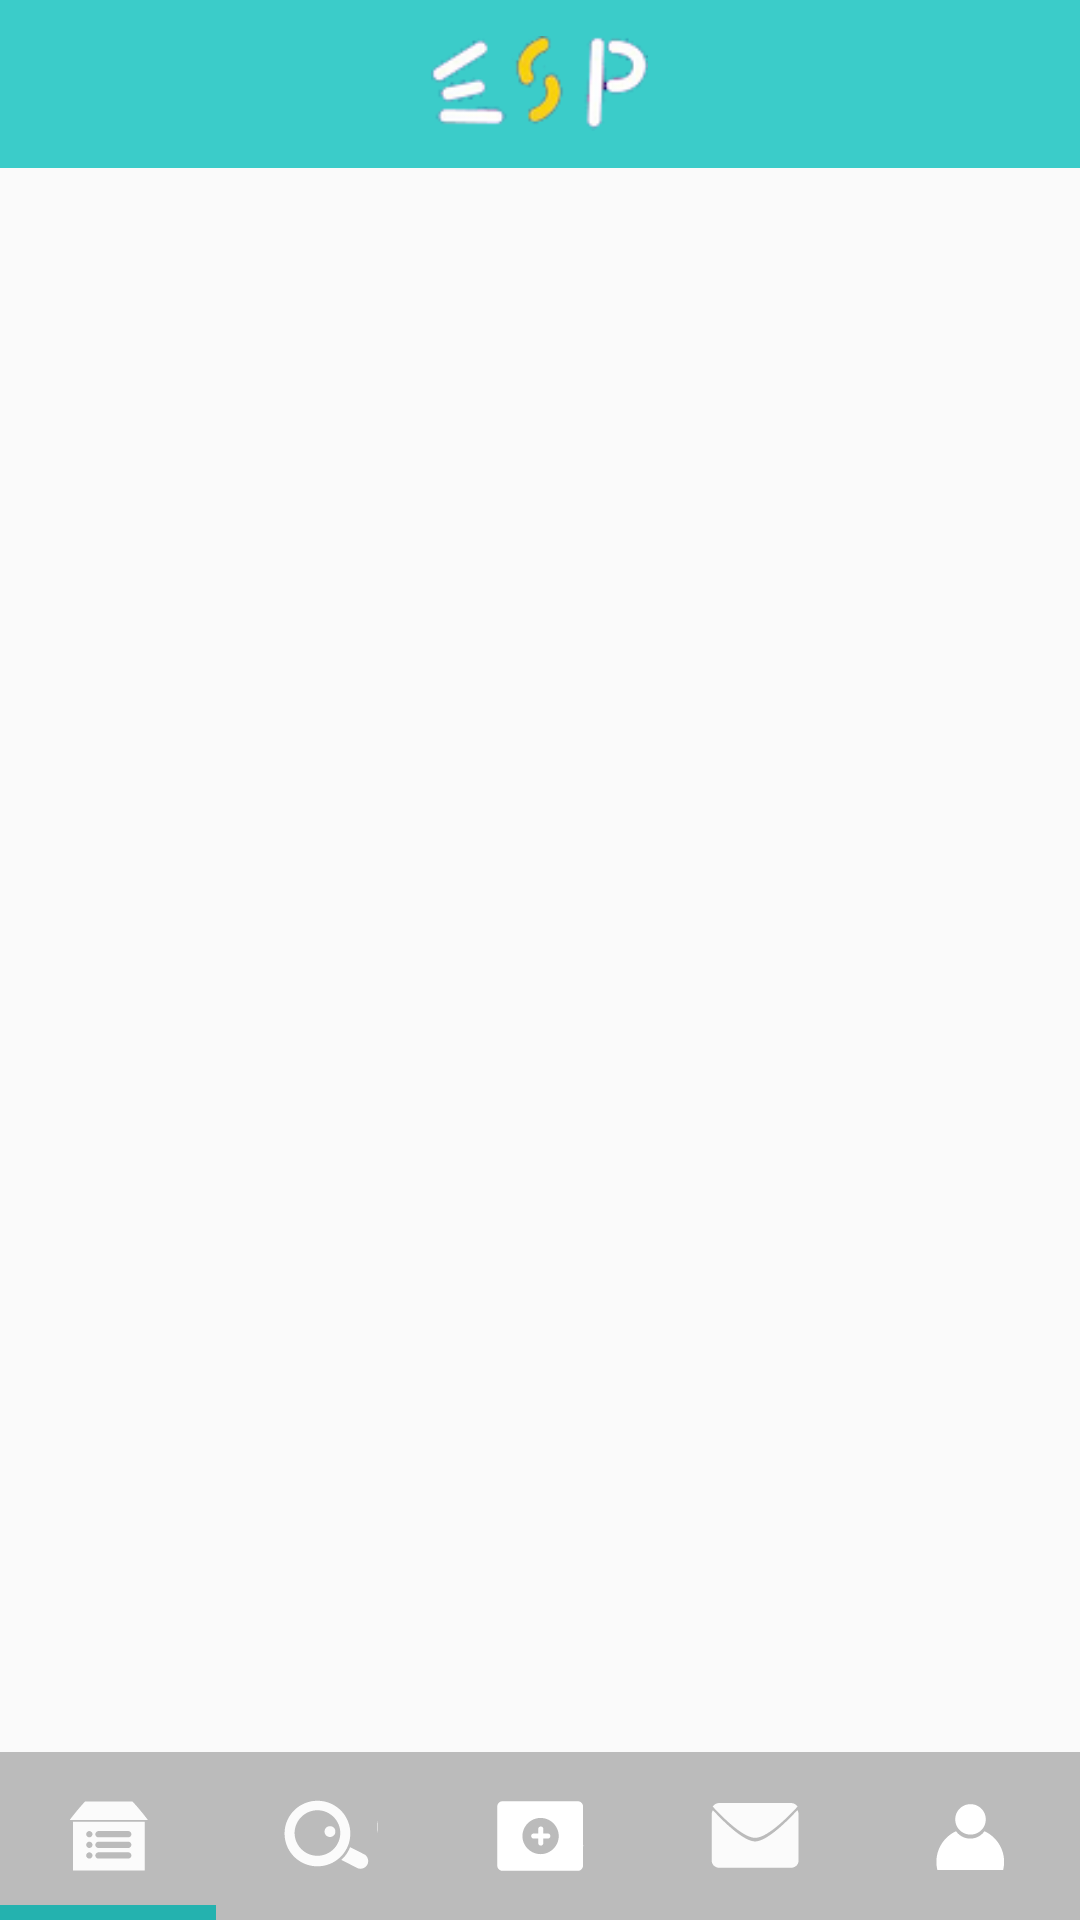

Screen size 1080*1920. Icon name, then its box in pixels as (x1, y1, x2, y2):
create: (497, 1801, 583, 1871)
home: (70, 1801, 148, 1871)
message: (712, 1803, 799, 1868)
profile: (936, 1804, 1004, 1870)
search: (284, 1801, 378, 1869)
